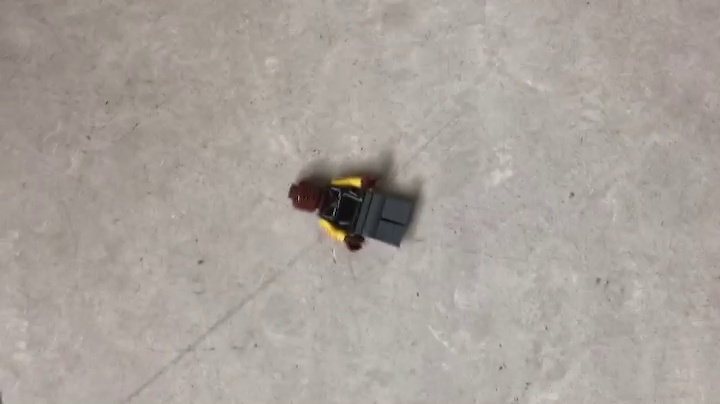people: (287, 174, 416, 253)
